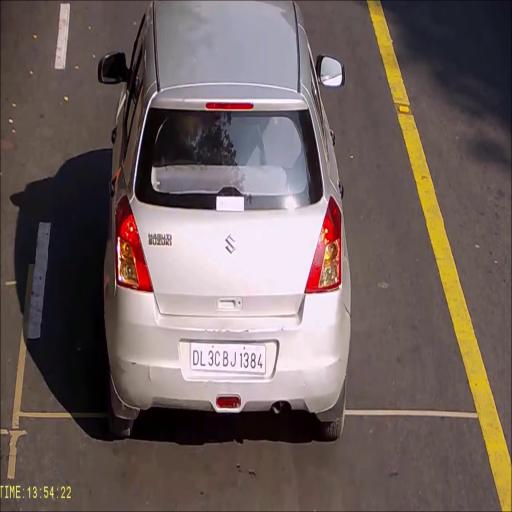License plate: (188, 341, 266, 375)
Vehicle: (97, 0, 351, 442)
